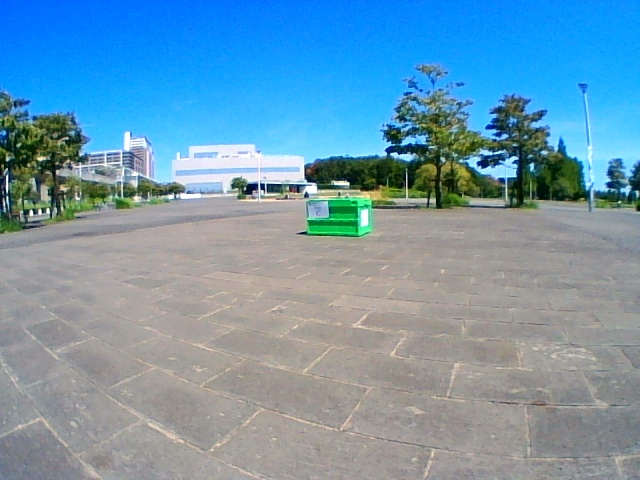green_box: (307, 197, 371, 236)
tag: (308, 203, 327, 218)
